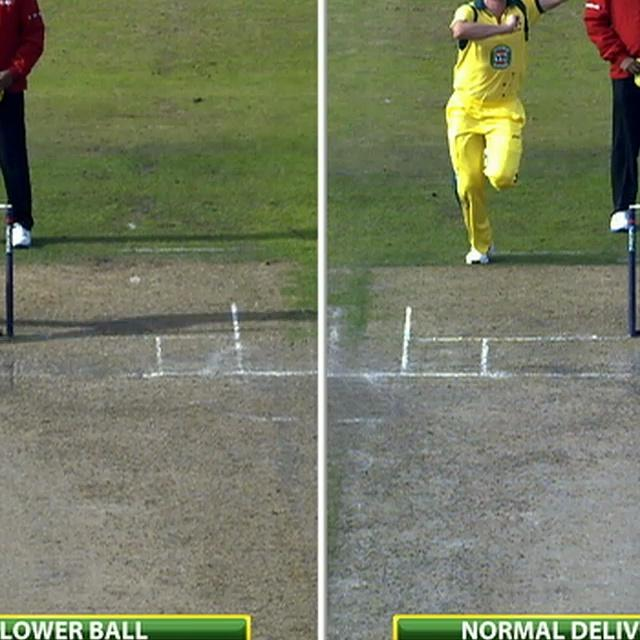umpire: (574, 0, 640, 235)
